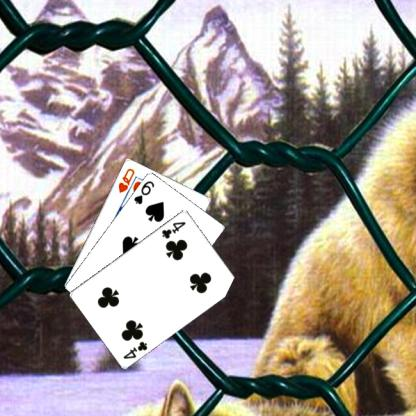4C: (159, 218, 187, 240), (121, 338, 148, 360)
6S: (131, 178, 156, 205)
QH: (115, 165, 136, 194)
